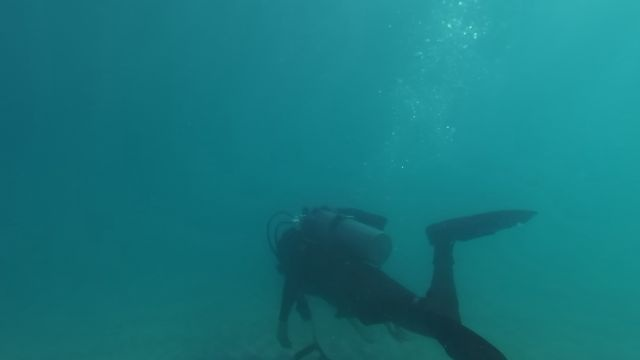Diver: (230, 194, 542, 351)
